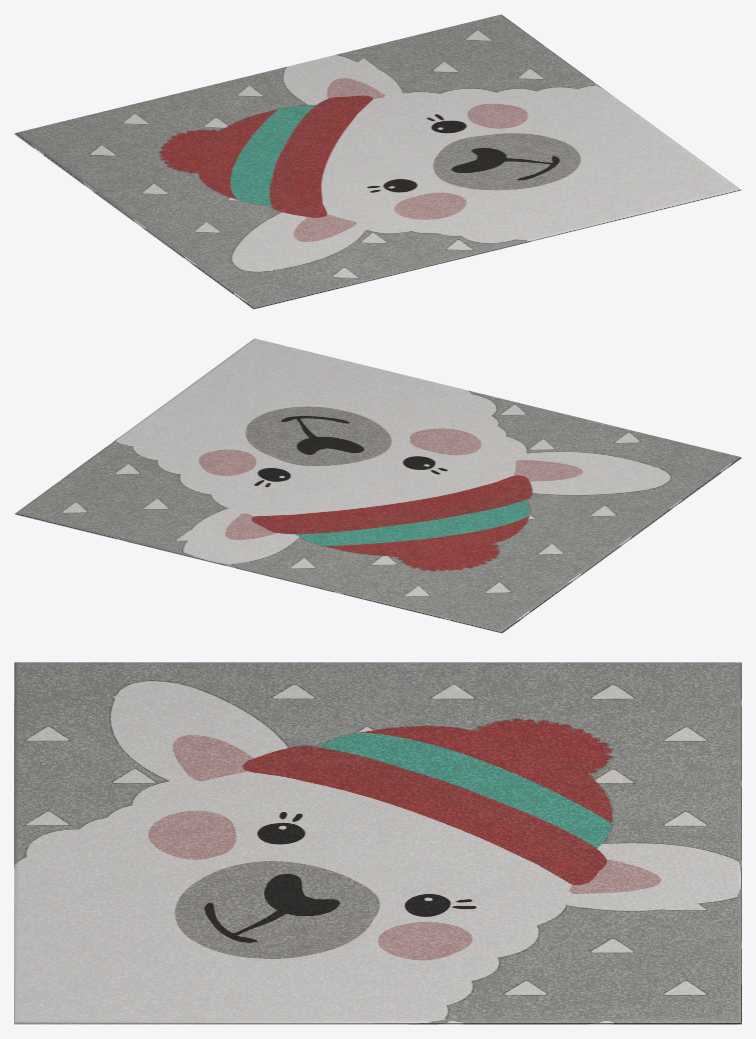
The model's file is square_carpet.fbx.
3 views of the same model, one above another, from view 1: azimuth 30°, elevation 25°; view 2: azimuth 150°, elevation 25°; view 3: azimuth 270°, elevation 25° (orthographic). The views are drawn at different scales.
Visible parts, largest first — view 1: Plane; view 2: Plane; view 3: Plane.
Part boxes in pixels (x1,y1,x2,y2): Plane: (14,14,741,309); Plane: (14,338,741,633); Plane: (14,662,741,1024).
Size of the model in its own units: 1412 by 5.7 by 1200.
